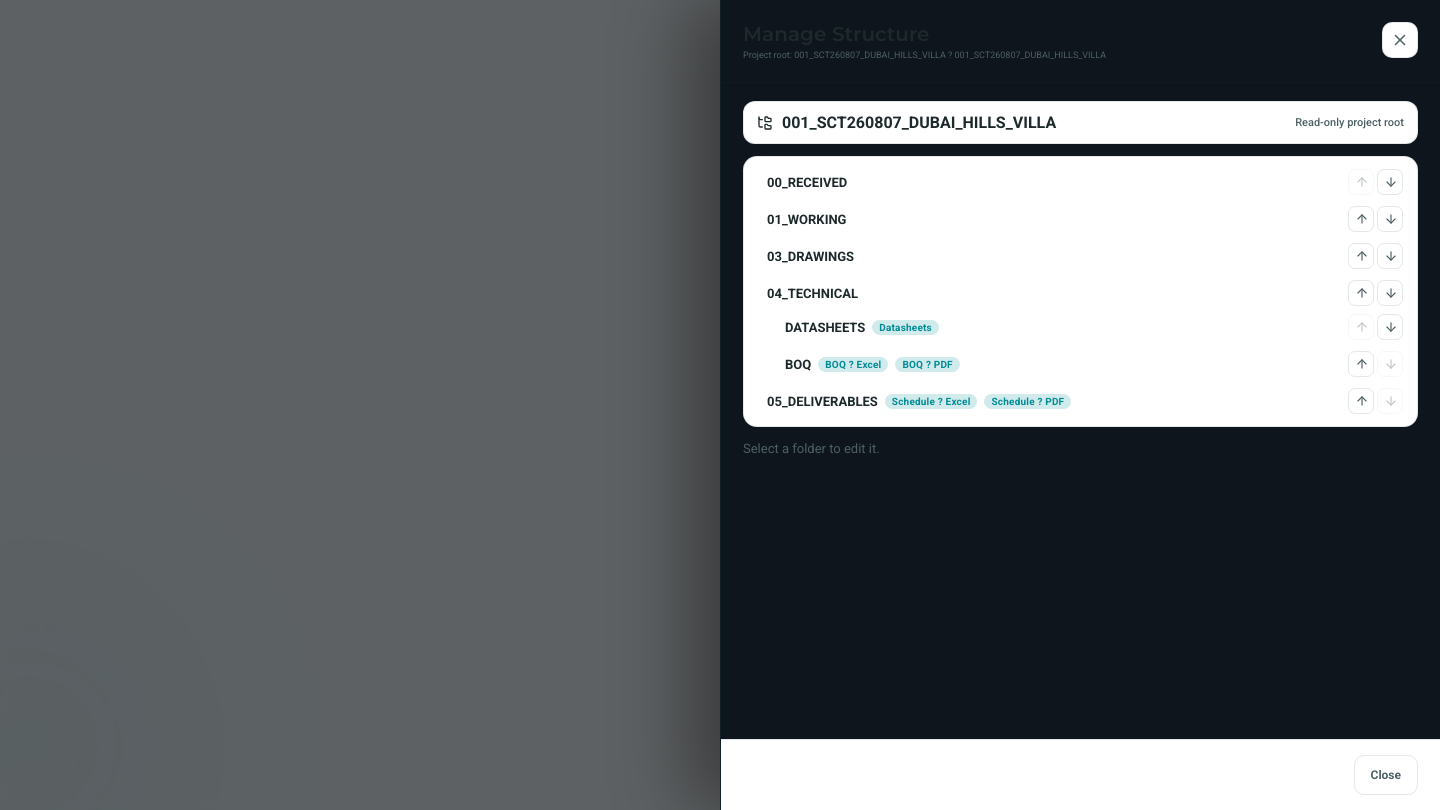
Test case: ManageStructureDrawer › does not offer a delete button when the folder is not empty
Click the button "03_DRAWINGS" at (811, 256), box [760,244,1342,268]
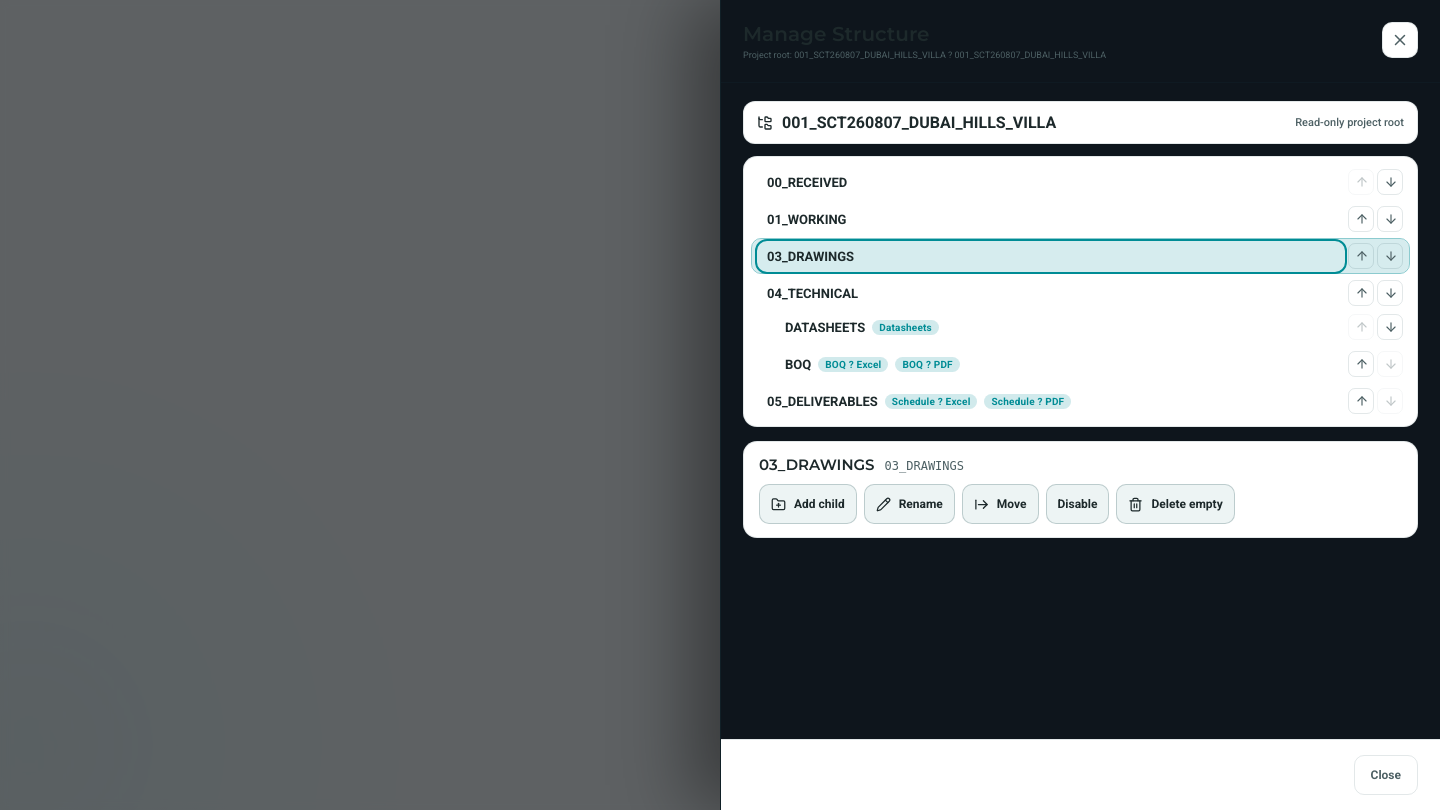
Click the button "Delete empty" at (1176, 504), box [1116,484,1235,524]
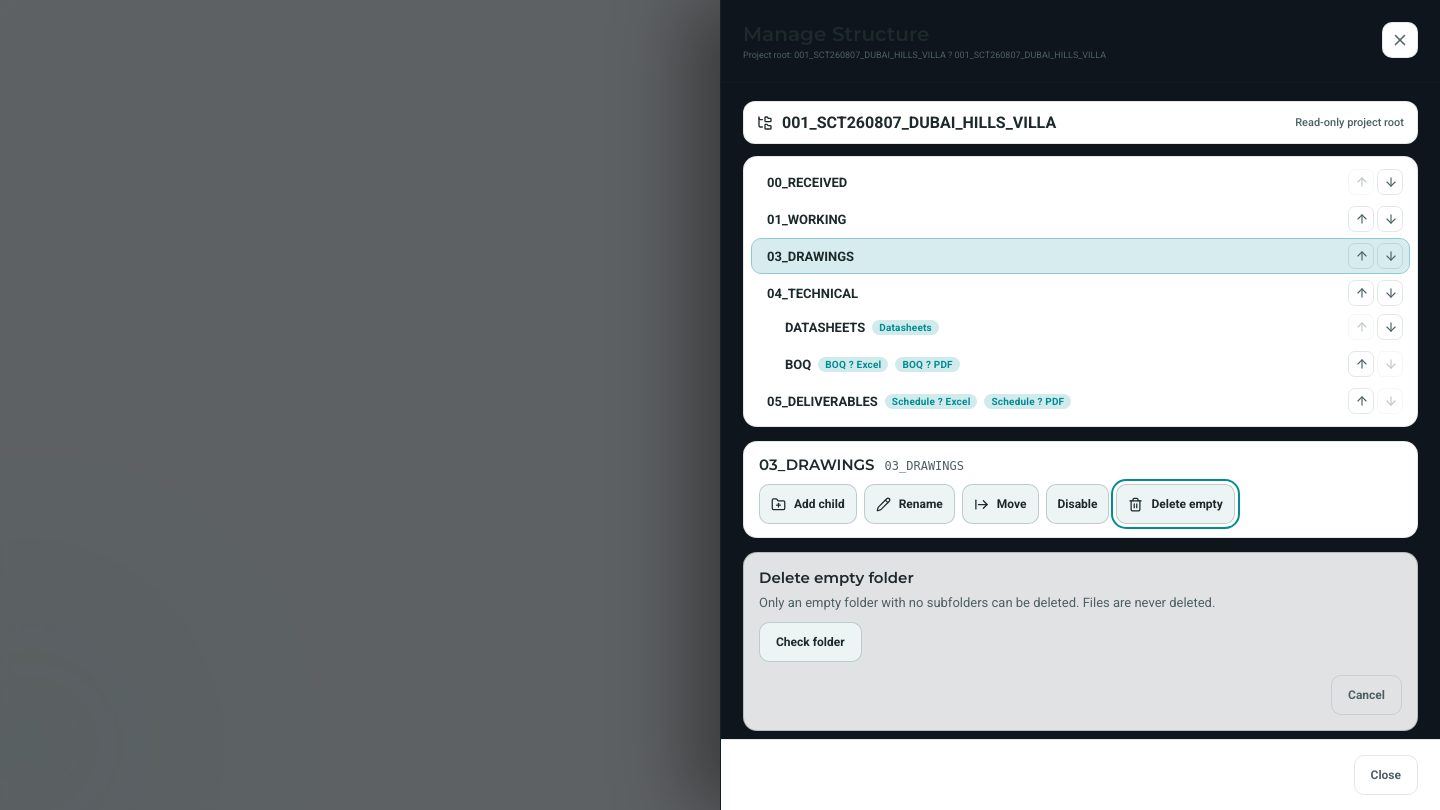
Click the button "Check folder" at (810, 642), box [759,622,862,662]
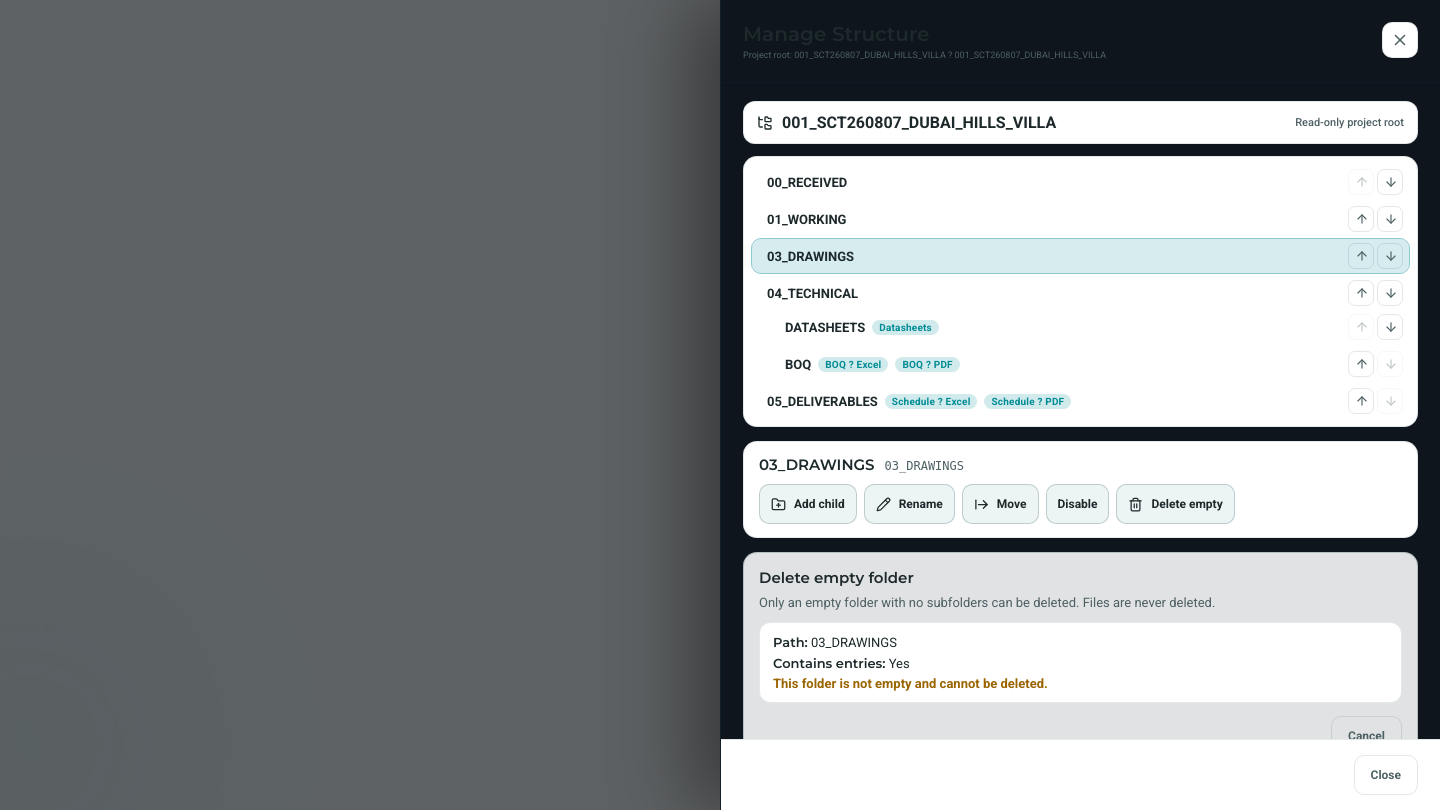
Expected: the text "This folder is not empty and cannot be deleted." is shown, [773,676,1048,691]
